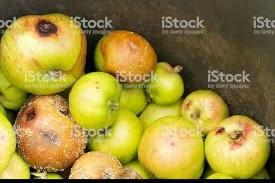rotten apple: (0, 11, 94, 90), (12, 92, 82, 167), (203, 113, 274, 176), (89, 31, 157, 84), (181, 88, 233, 129), (75, 151, 124, 179)
